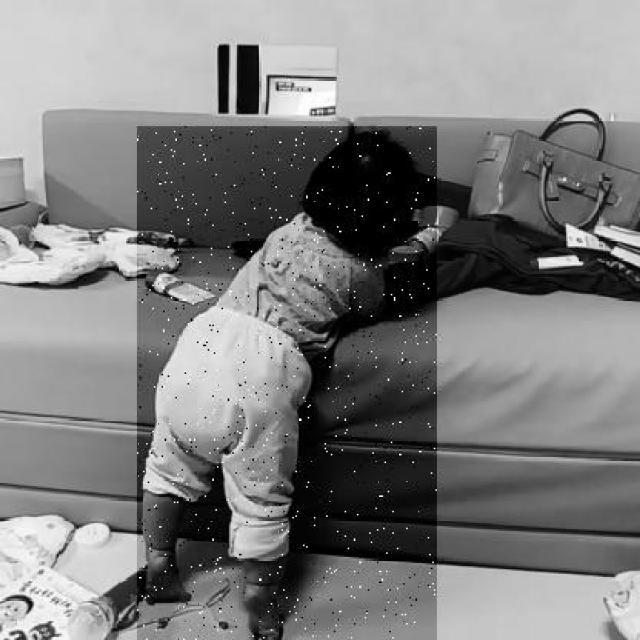child: (137, 126, 437, 640)
